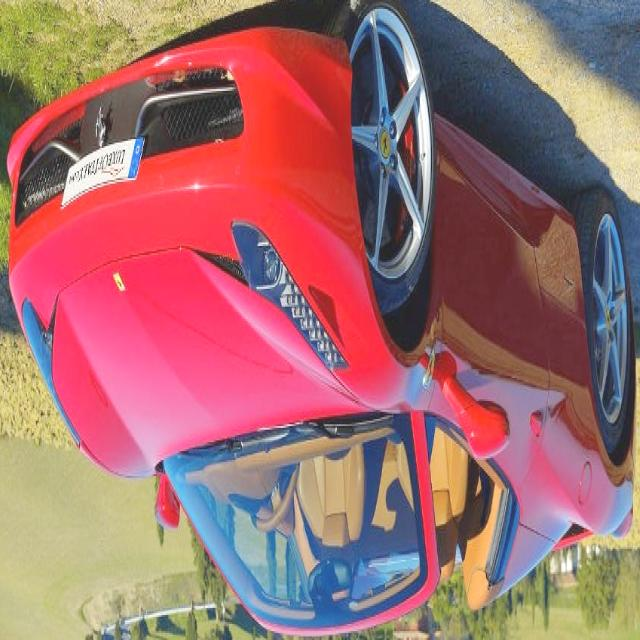red: (0, 17, 635, 628)
